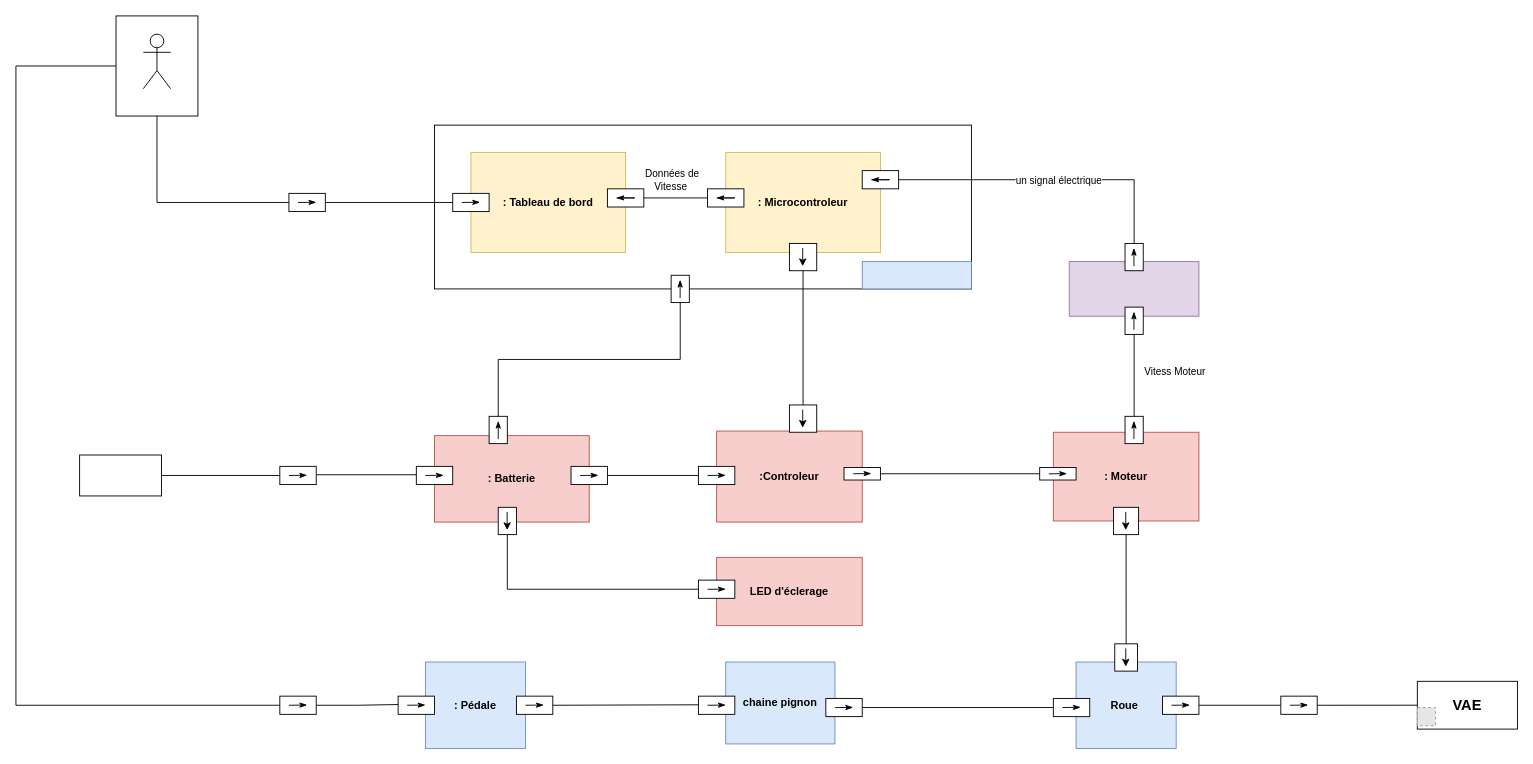
The diagram is 1533 pixels wide and 764 high, and some of its shapes have lost their labels. Grey dashed boxes stand in for pictures. Here are the shapes that lost their labels. From the top down, the centre of each, then its label:
At [156,61]: "Utilisateur".
At [916,275]: "Console de controle".
At [1133,288]: ": Capteur de vitesse".
At [120,475]: "Chargeur".
